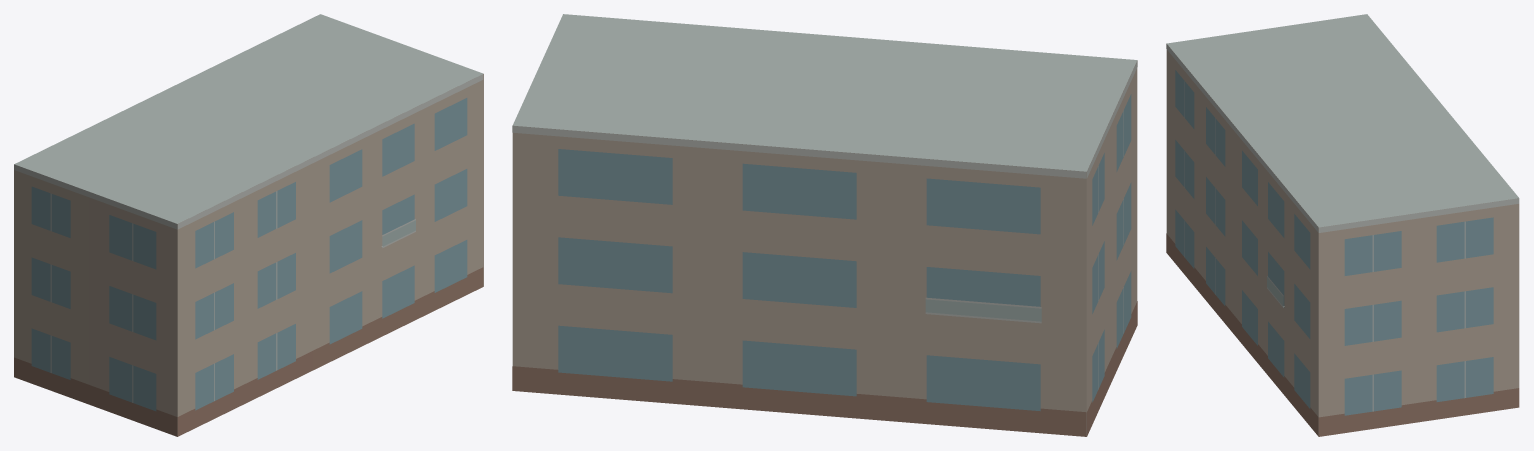
The model's file is survey-upis-32721272.glb.
3 views of the same model, side by side, from view 1: azimuth 30°, elevation 25°; view 2: azimuth 150°, elevation 25°; view 3: azimuth 270°, elevation 25° (orthographic). The views are drawn at different scales.
Visible parts, largest first — view 1: survey-upis-32721272.tmp; view 2: survey-upis-32721272.tmp; view 3: survey-upis-32721272.tmp.
Part boxes in pixels (bbox=[...]): survey-upis-32721272.tmp: bbox=[14, 14, 483, 436]; survey-upis-32721272.tmp: bbox=[512, 14, 1137, 436]; survey-upis-32721272.tmp: bbox=[1166, 14, 1519, 436].
Size of the model in its own units: 20.03 by 9.15 by 13.99.
